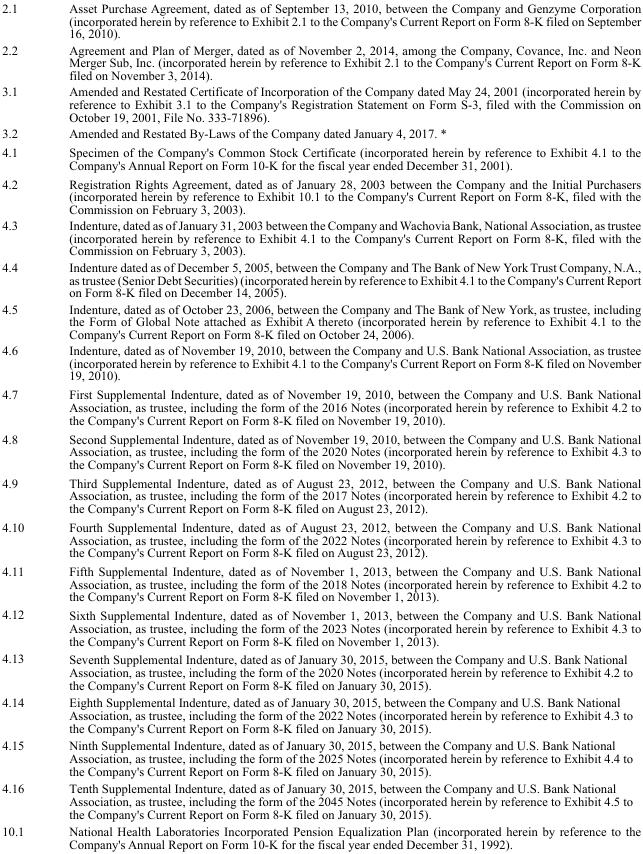table: (1, 0, 640, 850)
table column: (45, 0, 640, 850), (1, 0, 45, 850)
table row: (1, 428, 640, 473), (1, 384, 640, 428), (1, 473, 640, 517), (1, 517, 640, 561), (1, 561, 640, 605), (1, 605, 640, 649), (1, 649, 640, 693), (1, 173, 640, 216), (1, 341, 640, 384), (1, 693, 640, 736), (1, 736, 640, 779), (1, 779, 640, 822), (1, 82, 640, 124), (1, 216, 640, 258), (1, 258, 640, 300), (1, 0, 640, 41), (1, 41, 640, 82), (1, 300, 640, 341), (1, 142, 640, 173), (1, 822, 640, 850), (1, 124, 640, 142)
